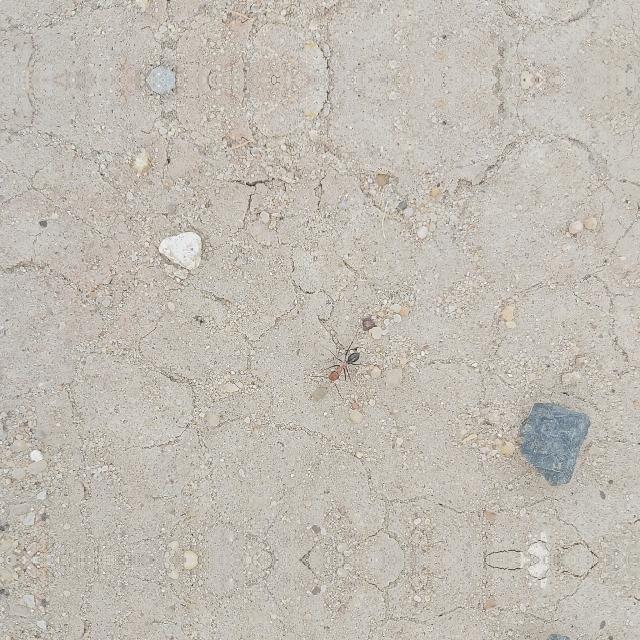Cataglyphis: (320, 345, 368, 385)
